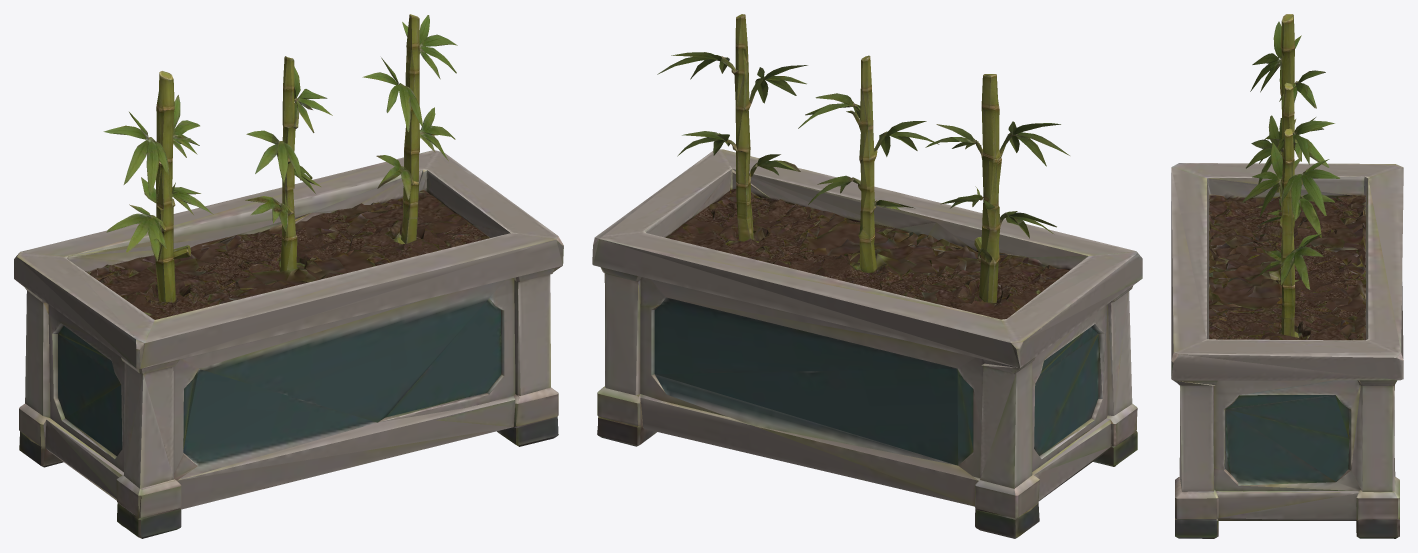
Rendered from bambooPlanter.glb.
The picture shows the model from 3 angles, left to right: view 1: azimuth 30°, elevation 25°; view 2: azimuth 150°, elevation 25°; view 3: azimuth 270°, elevation 25°; orthographic projection. The views are drawn at different scales.
Visible parts, largest first — view 1: Mesh_0; view 2: Mesh_0; view 3: Mesh_0.
Part boxes in pixels (left/top/right/bottom): Mesh_0: left=14, top=14, right=563, bottom=538; Mesh_0: left=592, top=14, right=1142, bottom=538; Mesh_0: left=1171, top=14, right=1403, bottom=538.
Bounding box in the file's own units: 0.5553 × 0.5 × 0.2816.
Materials: 1 (1 with a texture image).
